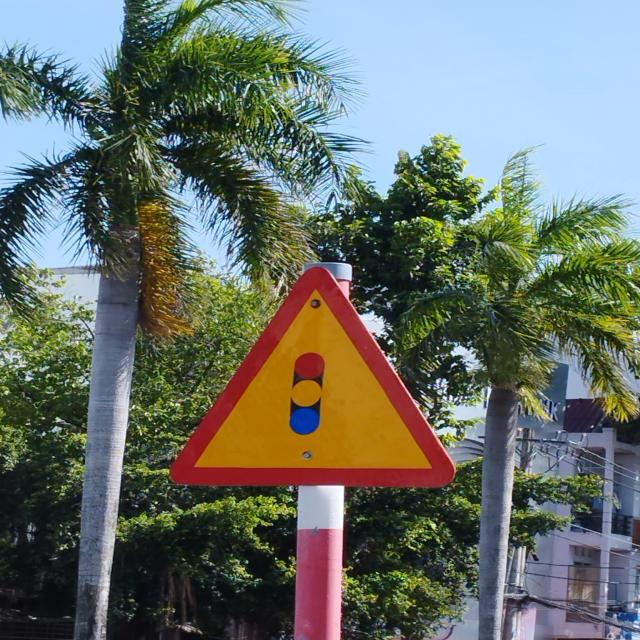Duong_Co_Go_Giam_Toc: (169, 266, 457, 488)
